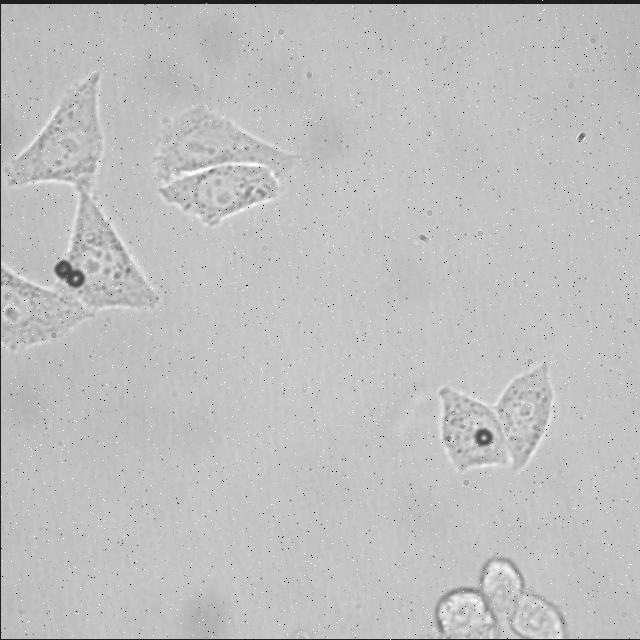microbeads: (472, 426, 492, 446), (68, 266, 86, 288), (54, 258, 72, 276)
